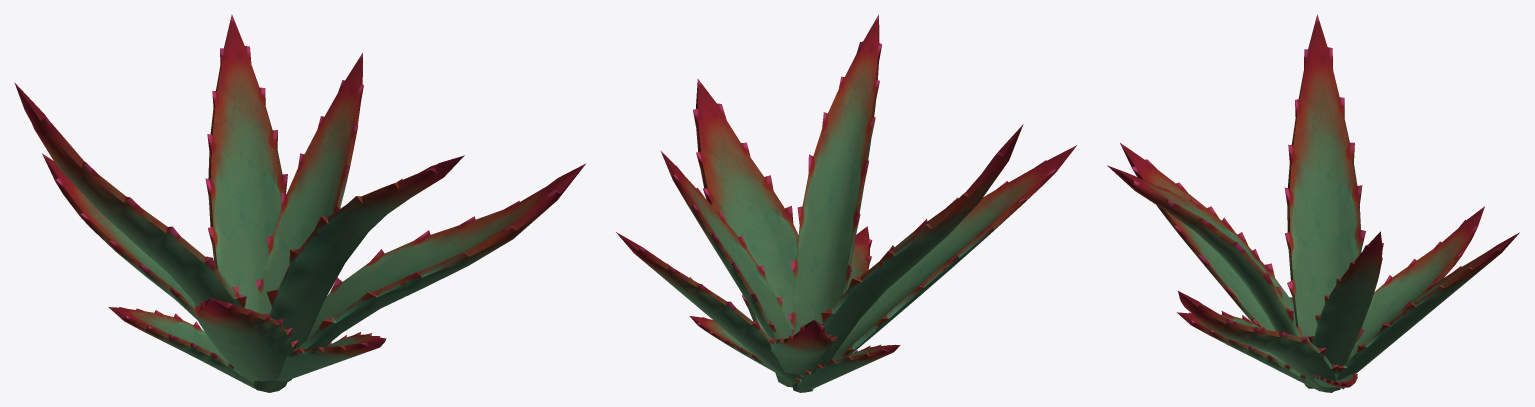
Rendered from DE_Cactus_01.fbx.
The picture shows the model from 3 angles, left to right: view 1: azimuth 30°, elevation 25°; view 2: azimuth 150°, elevation 25°; view 3: azimuth 270°, elevation 25°; orthographic projection. The views are drawn at different scales.
Visible parts, largest first — view 1: DE_Cactus_01; view 2: DE_Cactus_01; view 3: DE_Cactus_01.
Boxes of the visible parts, <box> form: DE_Cactus_01: <box>14,14,585,392</box>; DE_Cactus_01: <box>616,14,1076,392</box>; DE_Cactus_01: <box>1107,14,1519,392</box>.
Size of the model in its own units: 2.12 by 1.57 by 2.09.
